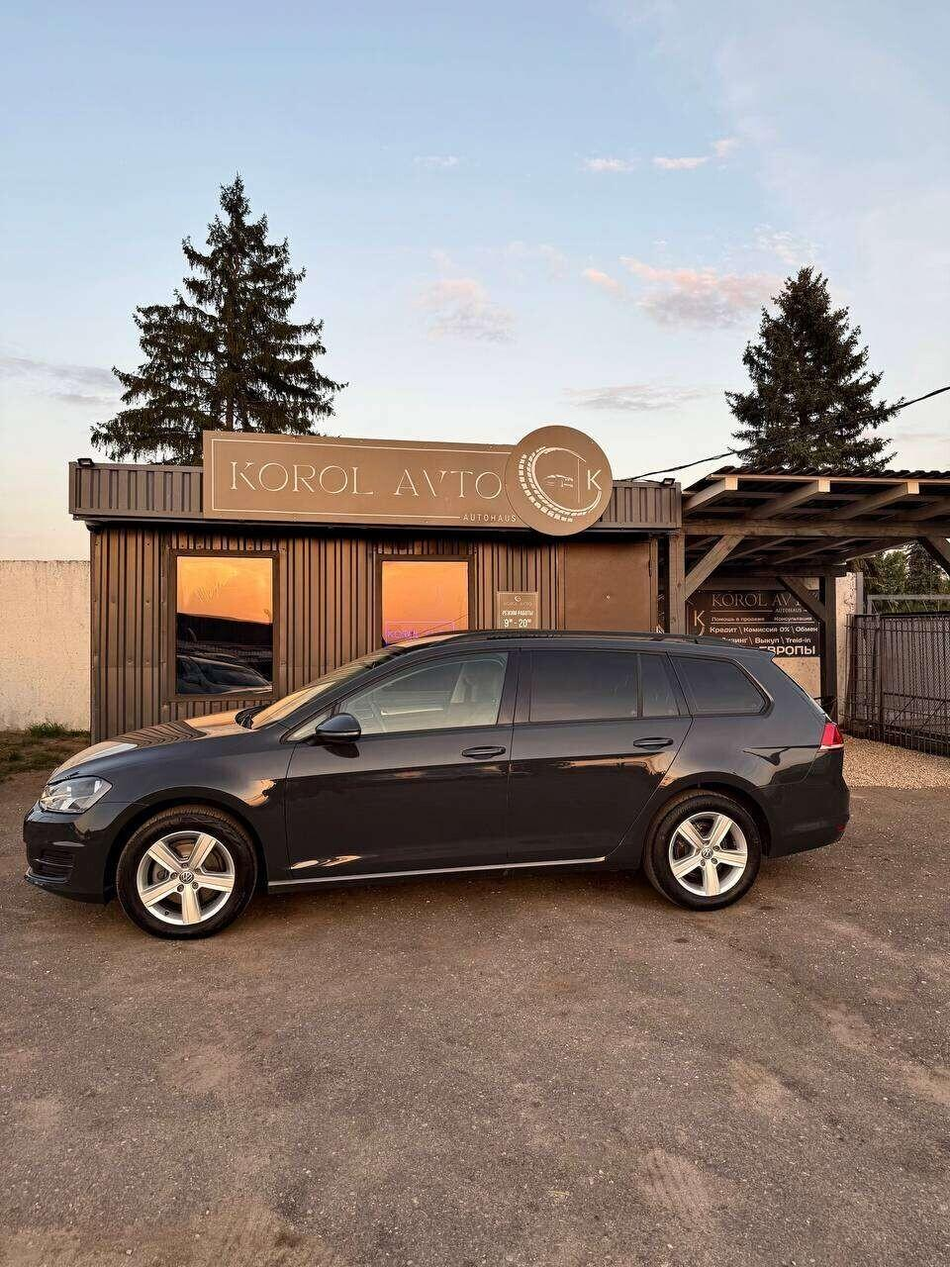Golf_2012-2017: (35, 627, 851, 954)
